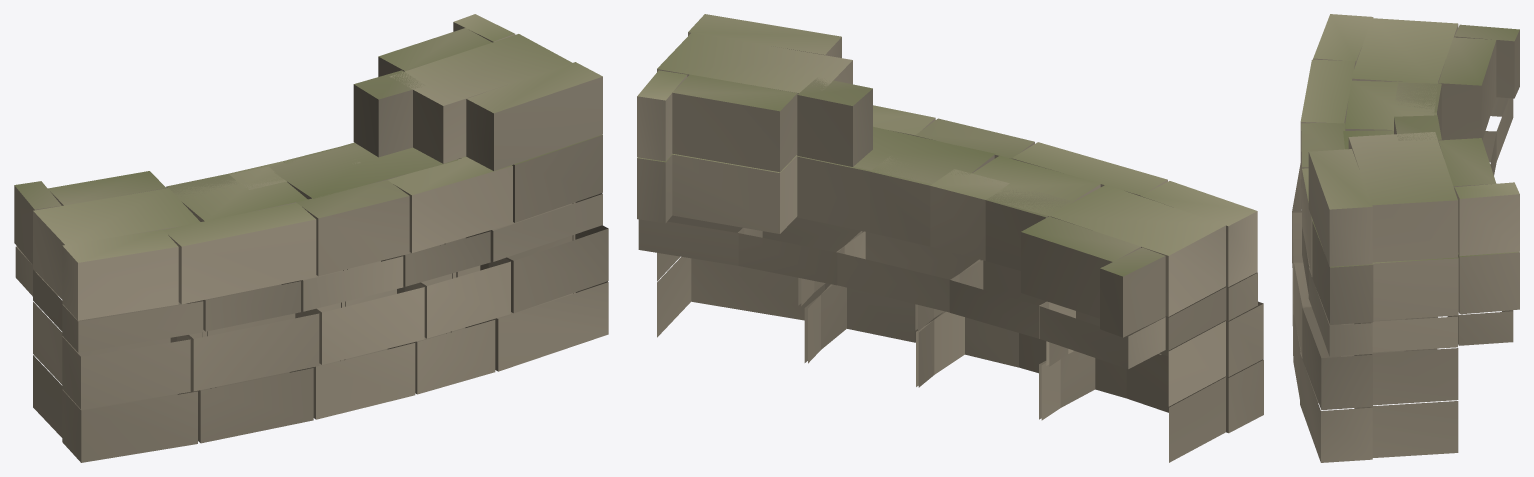
File: dome_drum_b0_mid.glb
The picture shows the model from 3 angles, left to right: view 1: azimuth 30°, elevation 25°; view 2: azimuth 150°, elevation 25°; view 3: azimuth 270°, elevation 25°; orthographic projection. The views are drawn at different scales.
Parts seen in each view (by area): view 1: dome_drum_b0_mid; view 2: dome_drum_b0_mid; view 3: dome_drum_b0_mid.
Boxes of the visible parts, x1,y1,x2,y2 form: dome_drum_b0_mid: [14, 14, 608, 462]; dome_drum_b0_mid: [637, 14, 1263, 462]; dome_drum_b0_mid: [1292, 14, 1519, 462].
Size of the model in its own units: 20.71 by 9.57 by 7.82.
